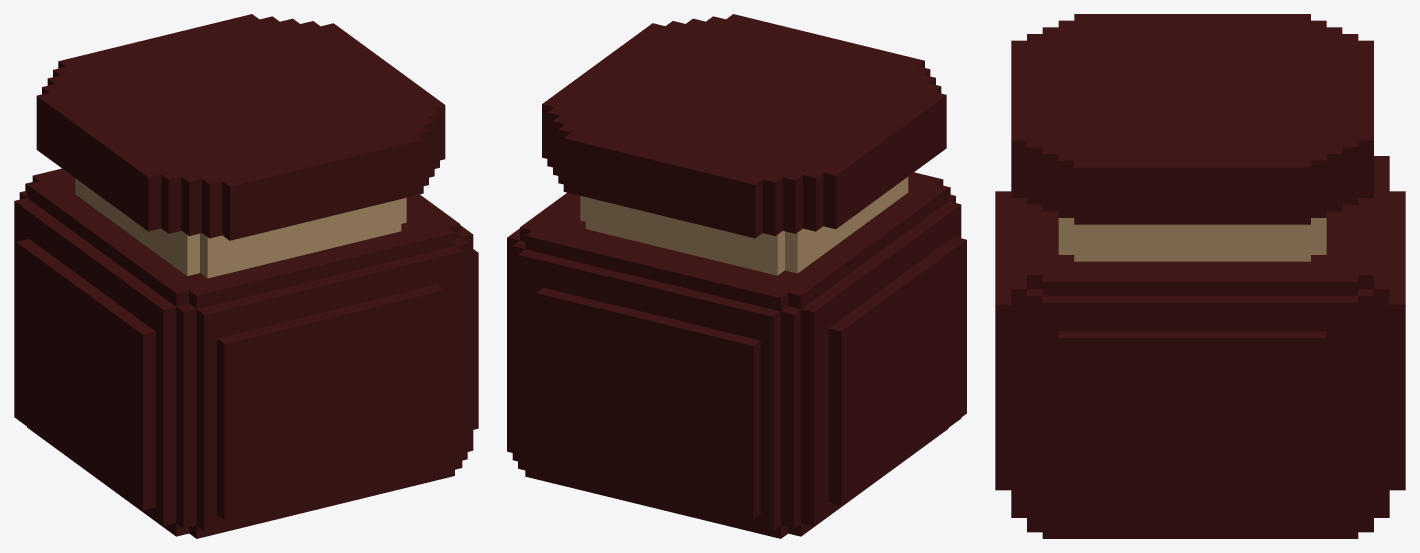
Rendered from Model Pot small.fbx.
3 renders of one model, left to right at view 1: azimuth 30°, elevation 25°; view 2: azimuth 150°, elevation 25°; view 3: azimuth 270°, elevation 25°, orthographic. The views are drawn at different scales.
Parts seen in each view (by area): view 1: Pot SmallCleaned; view 2: Pot SmallCleaned; view 3: Pot SmallCleaned.
Boxes of the visible parts, box(x1,y1,x2,y2) form: Pot SmallCleaned: box(14, 14, 478, 538); Pot SmallCleaned: box(507, 14, 966, 538); Pot SmallCleaned: box(995, 14, 1405, 538).
Size of the model in its own units: 260 by 260 by 260.
